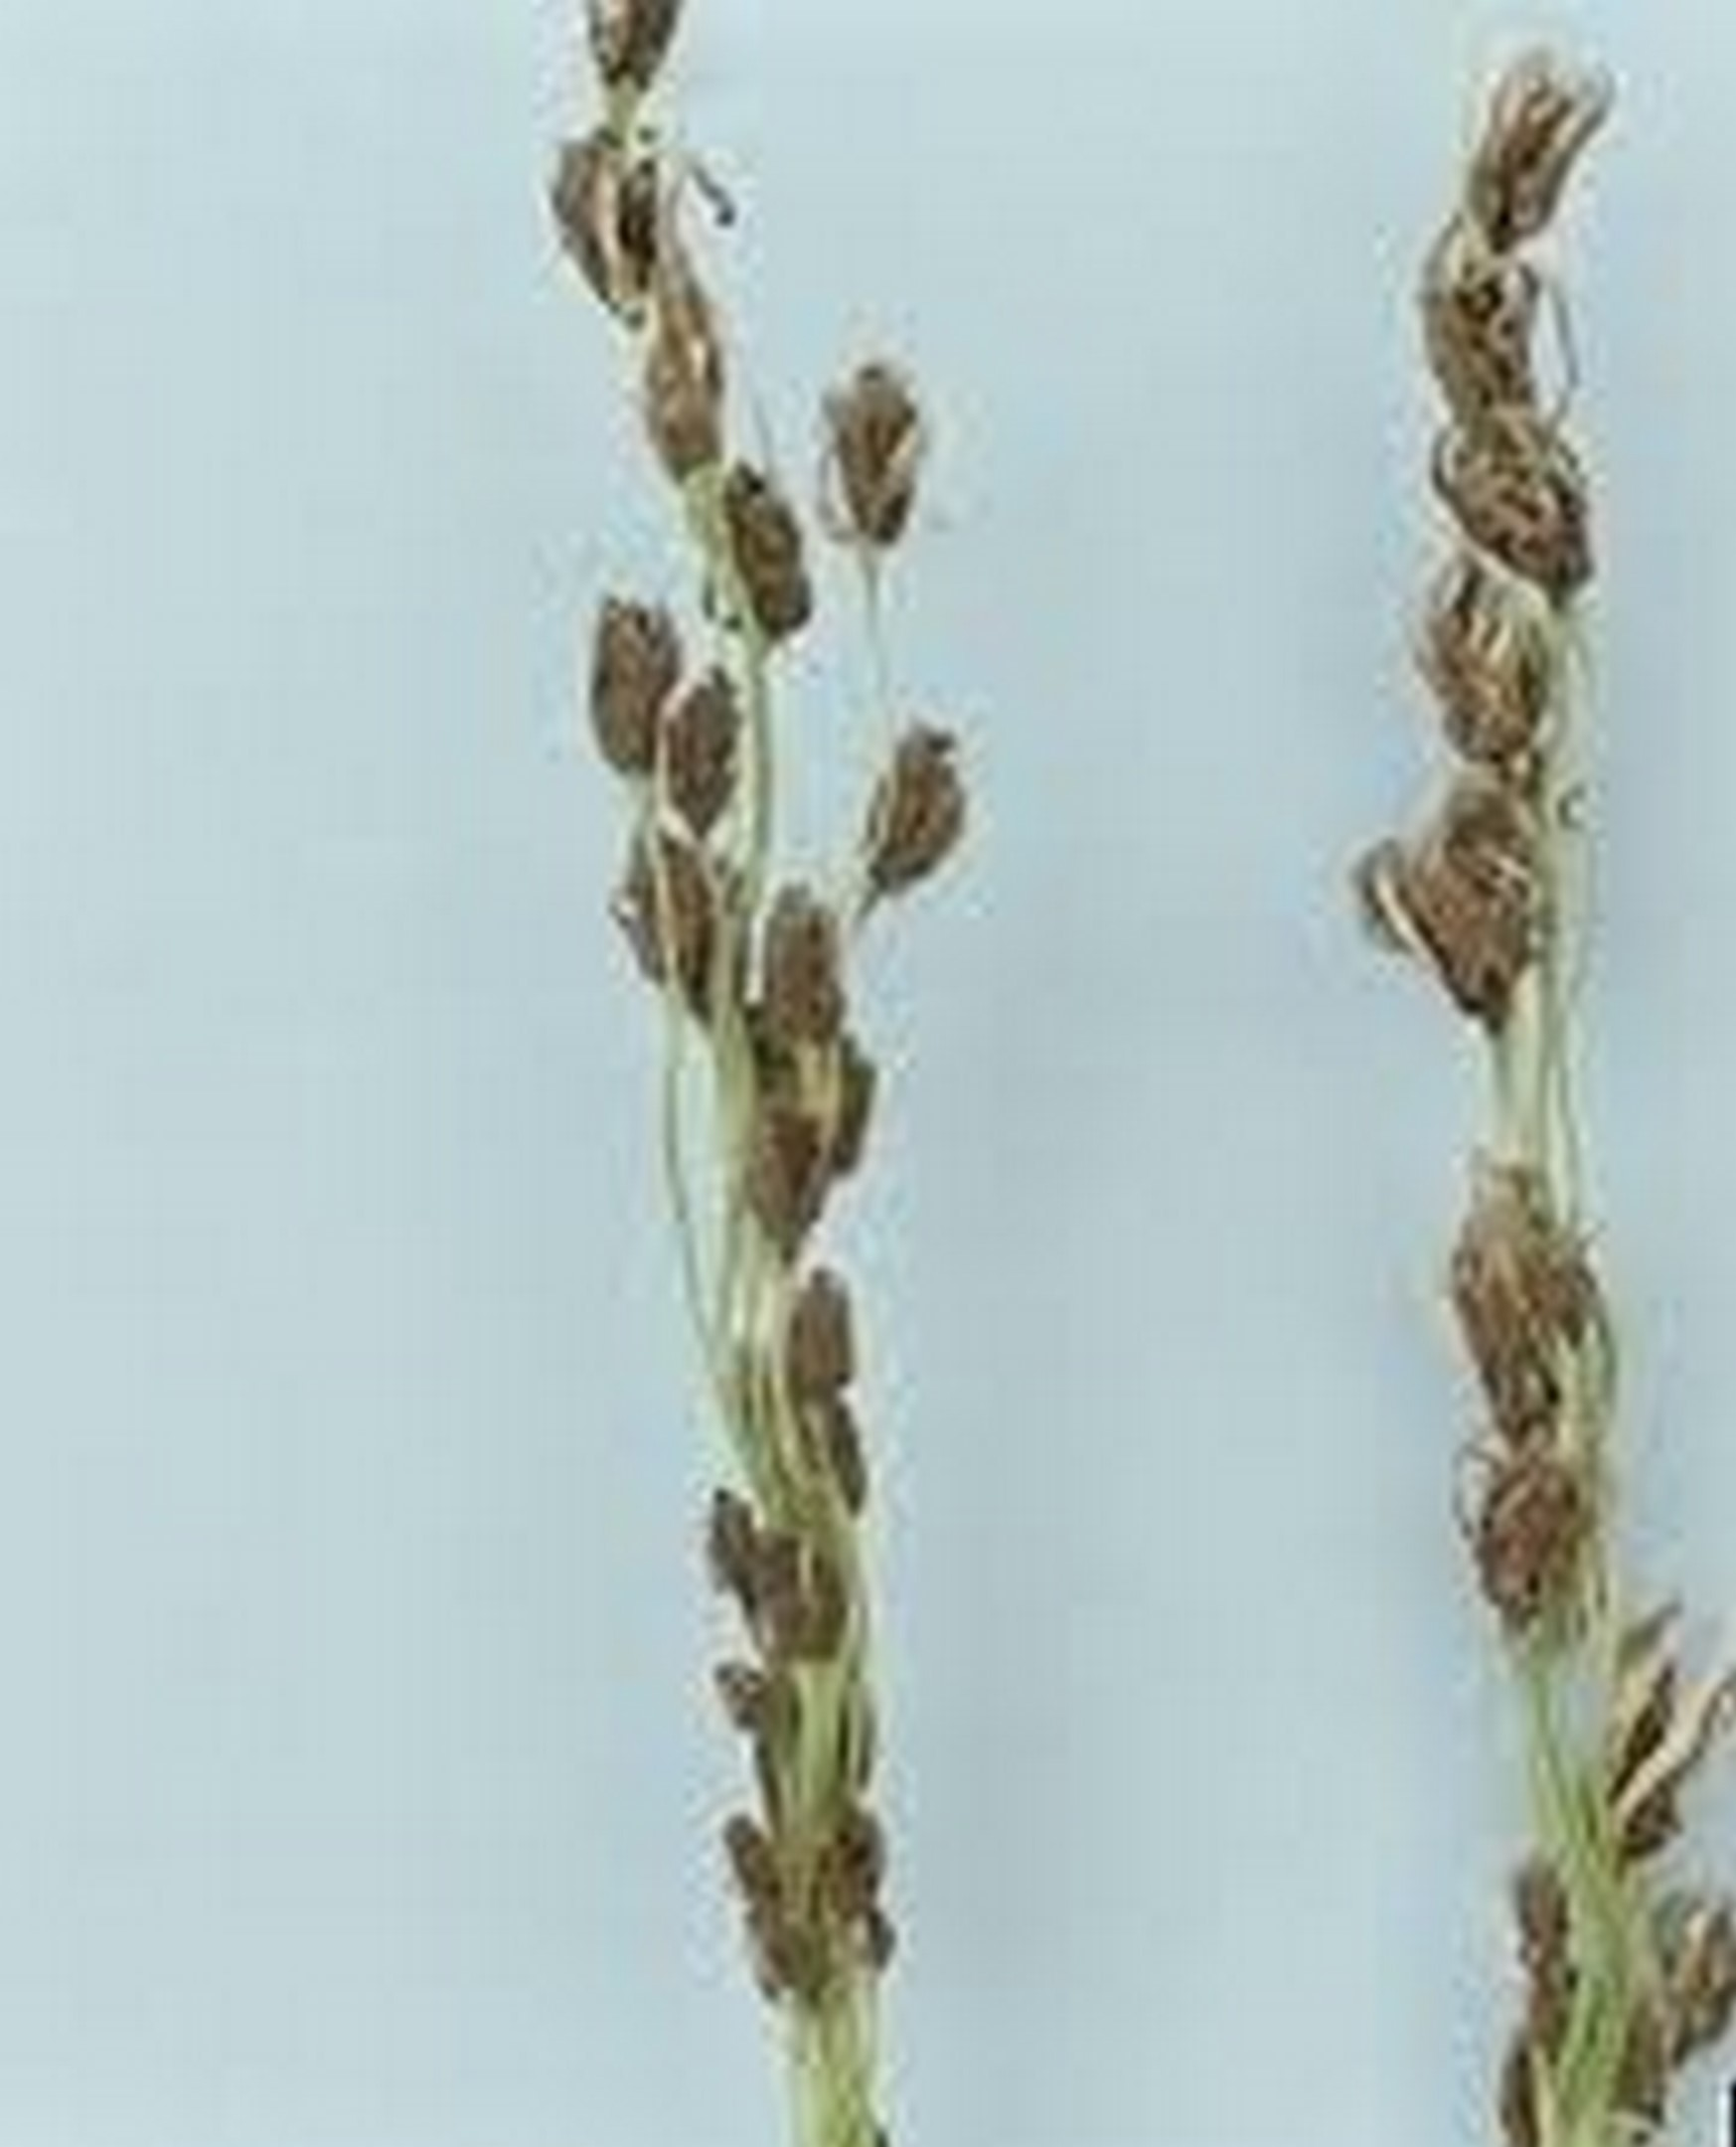Wheat Loose Smut: (473, 67, 1061, 1982)
